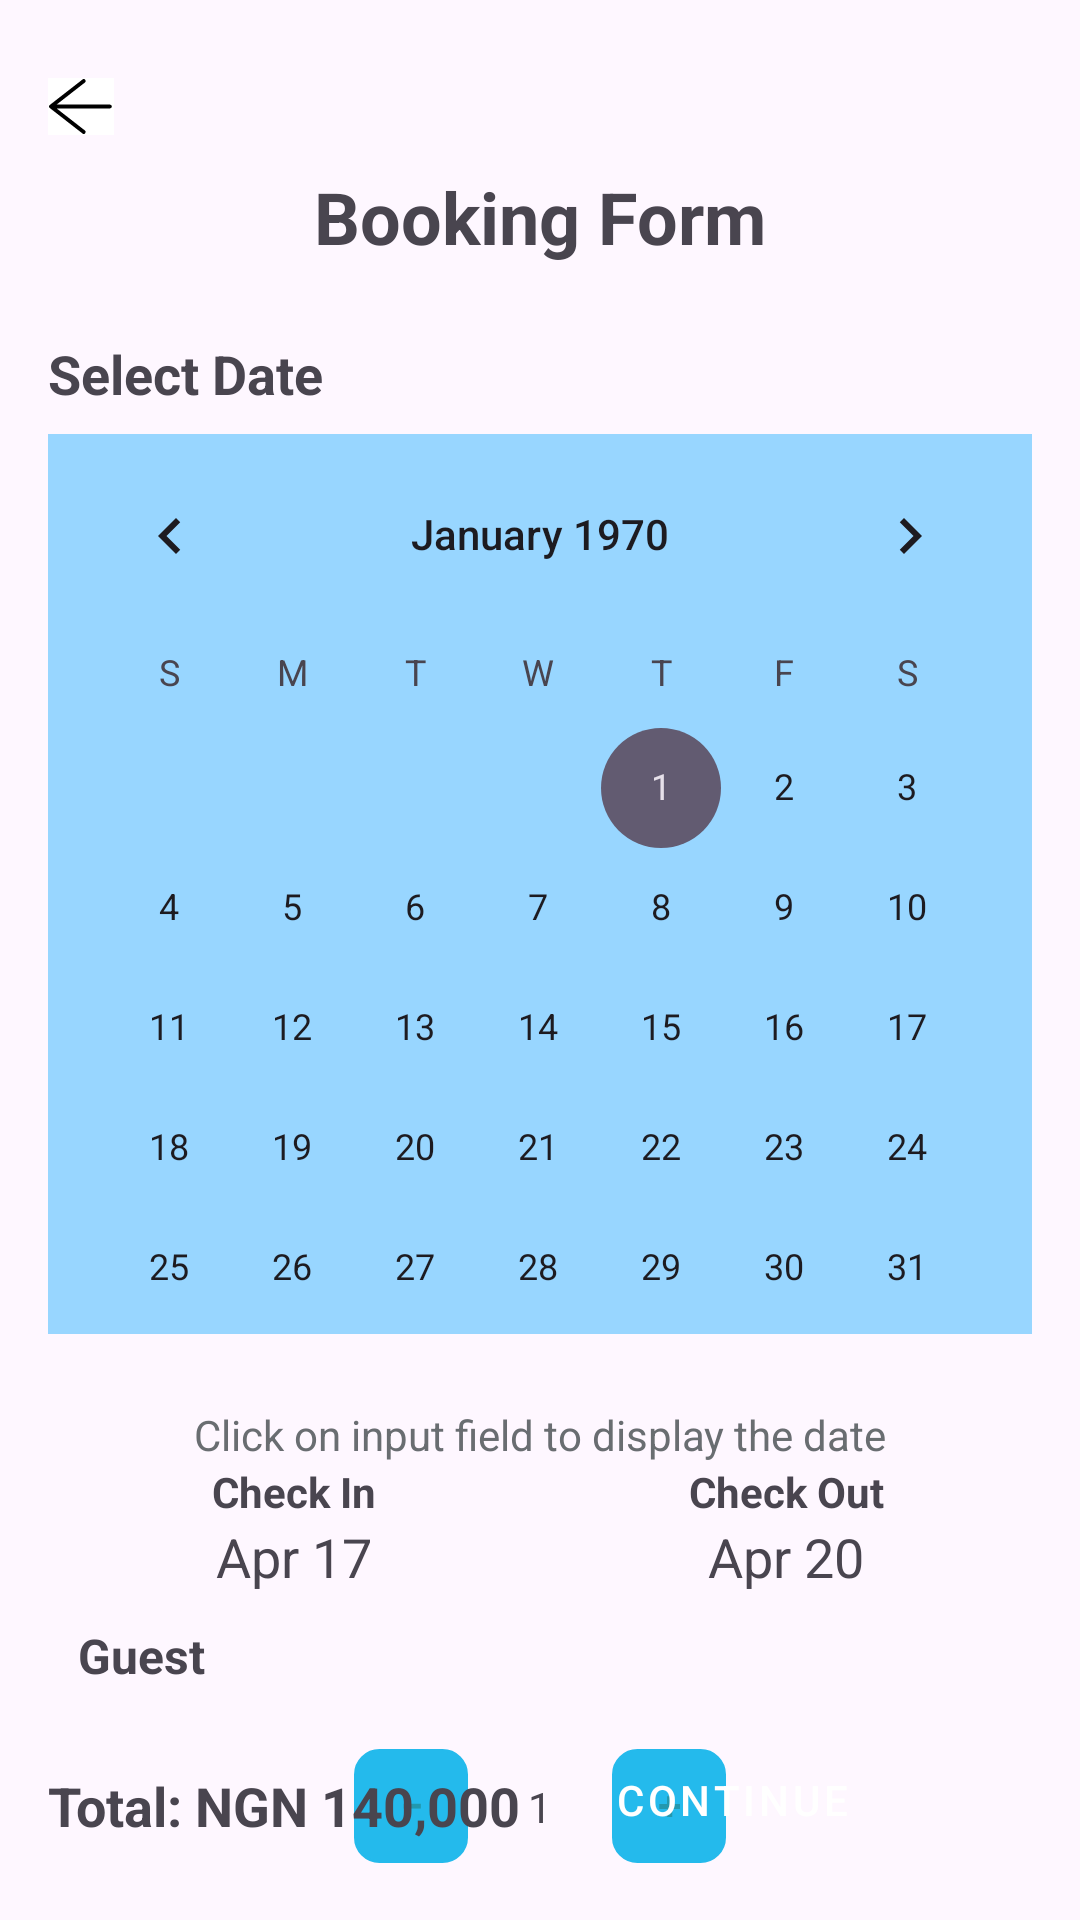

Icon bounding boxes for this 1080x1920 phone screenshot, format (x1, y1, x2, y2):
Back: (49, 79, 112, 134)
